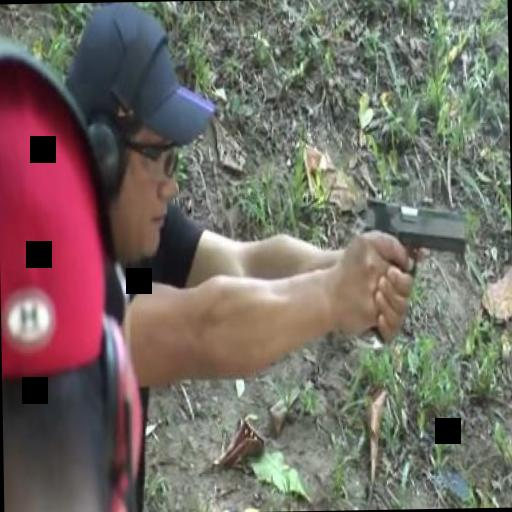Handgun: (358, 191, 470, 340)
